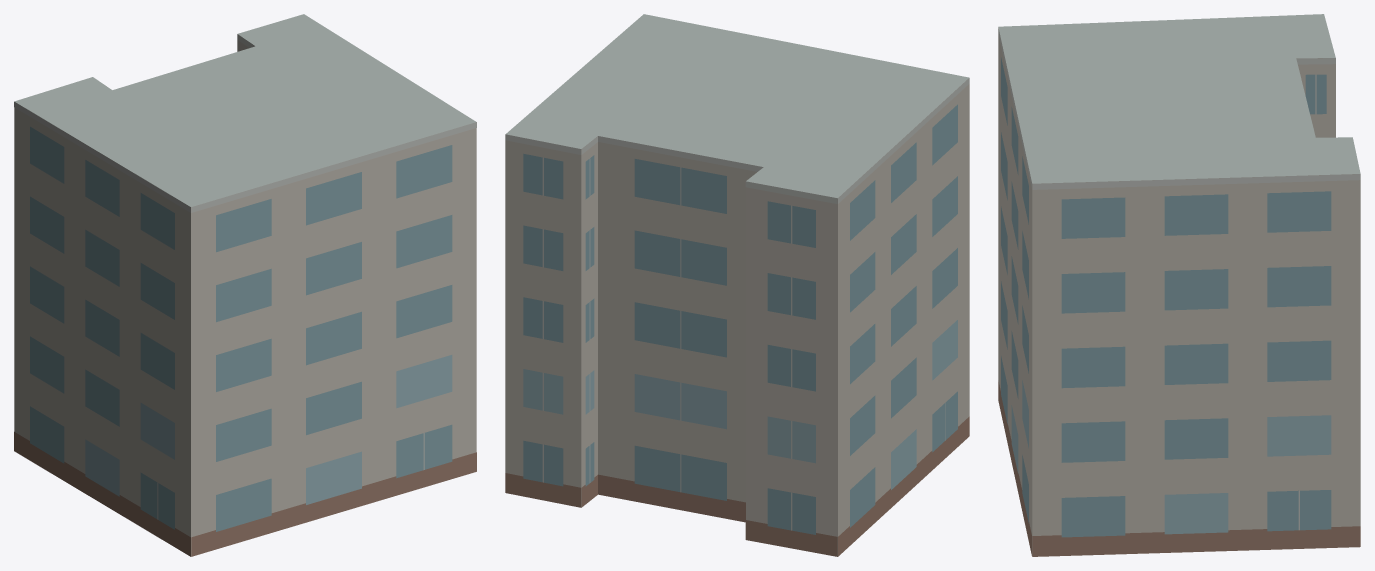
The model's file is survey-upis-32567458.glb.
The picture shows the model from 3 angles, left to right: view 1: azimuth 30°, elevation 25°; view 2: azimuth 150°, elevation 25°; view 3: azimuth 270°, elevation 25°; orthographic projection. The views are drawn at different scales.
Visible parts, largest first — view 1: survey-upis-32567458.tmp; view 2: survey-upis-32567458.tmp; view 3: survey-upis-32567458.tmp.
Part boxes in pixels (<box>): survey-upis-32567458.tmp: <box>14,14,476,556</box>; survey-upis-32567458.tmp: <box>505,14,969,556</box>; survey-upis-32567458.tmp: <box>998,14,1360,556</box>.
Bounding box in the file's own units: 14.25 × 14.6 × 12.86.
